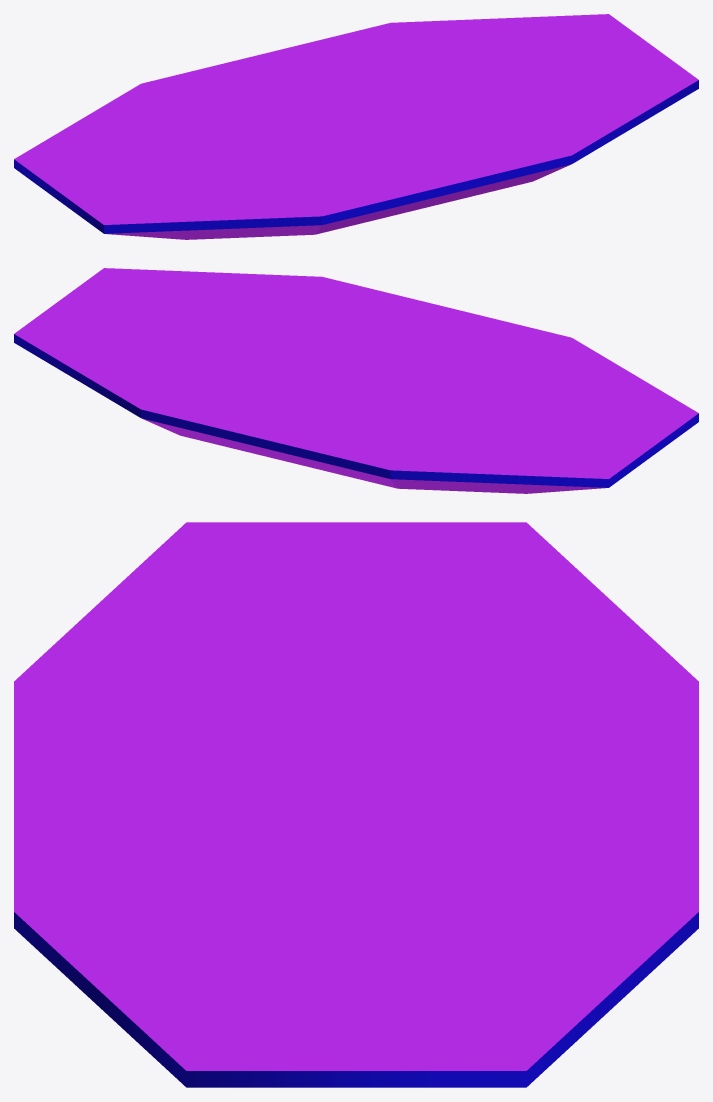
File: Upper Platform Pad.FBX
The picture shows the model from 3 angles, top to bottom: view 1: azimuth 30°, elevation 25°; view 2: azimuth 150°, elevation 25°; view 3: azimuth 270°, elevation 25°; orthographic projection. The views are drawn at different scales.
Visible parts, largest first — view 1: Gengon001; view 2: Gengon001; view 3: Gengon001.
Boxes of the visible parts, box(x1,y1,x2,y2) form: Gengon001: box(14, 14, 698, 239); Gengon001: box(14, 268, 698, 493); Gengon001: box(14, 522, 698, 1087).
Size of the model in its own units: 3.54 by 0.2229 by 1.87.
